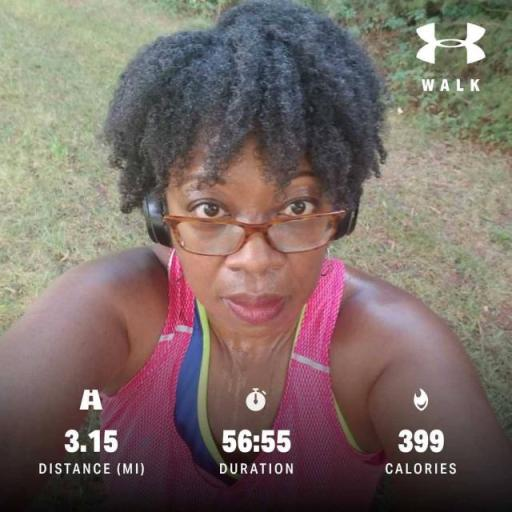Under Armour: (413, 19, 488, 95)
